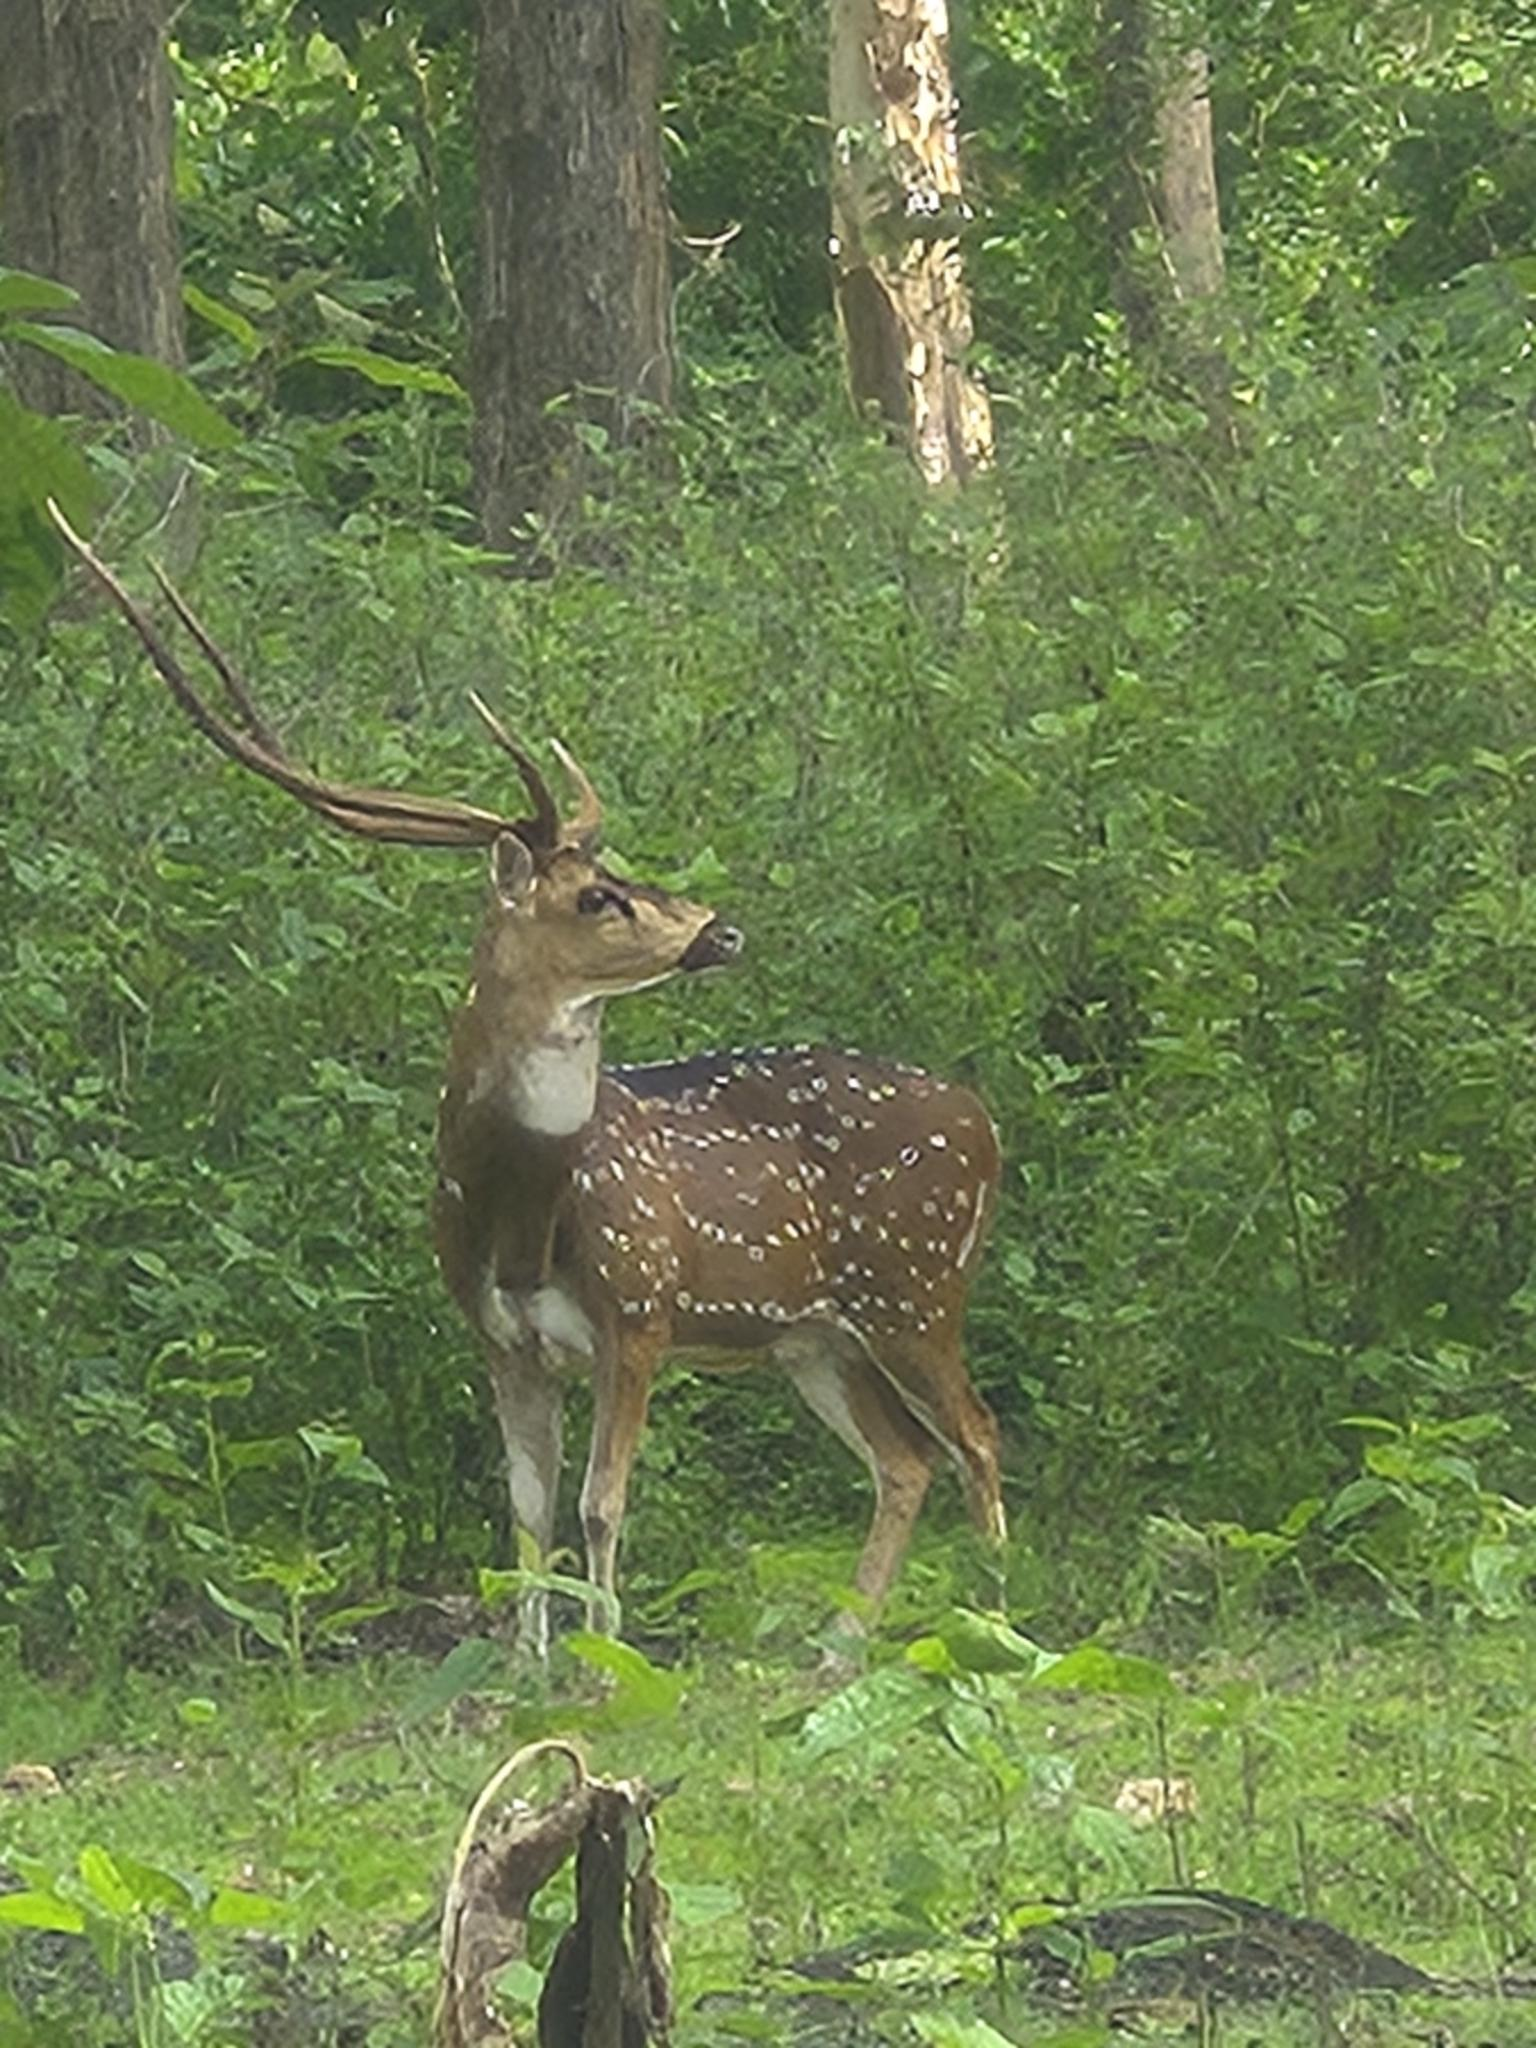Deer: (55, 514, 1004, 1625)
